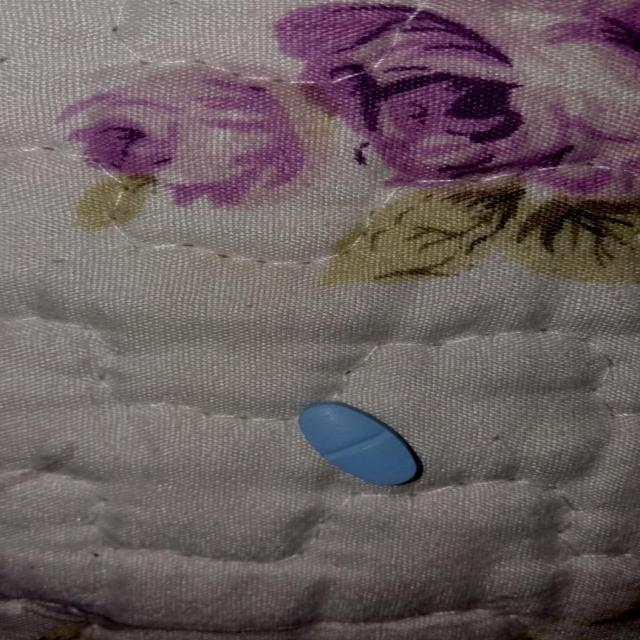pill: (292, 393, 444, 490)
